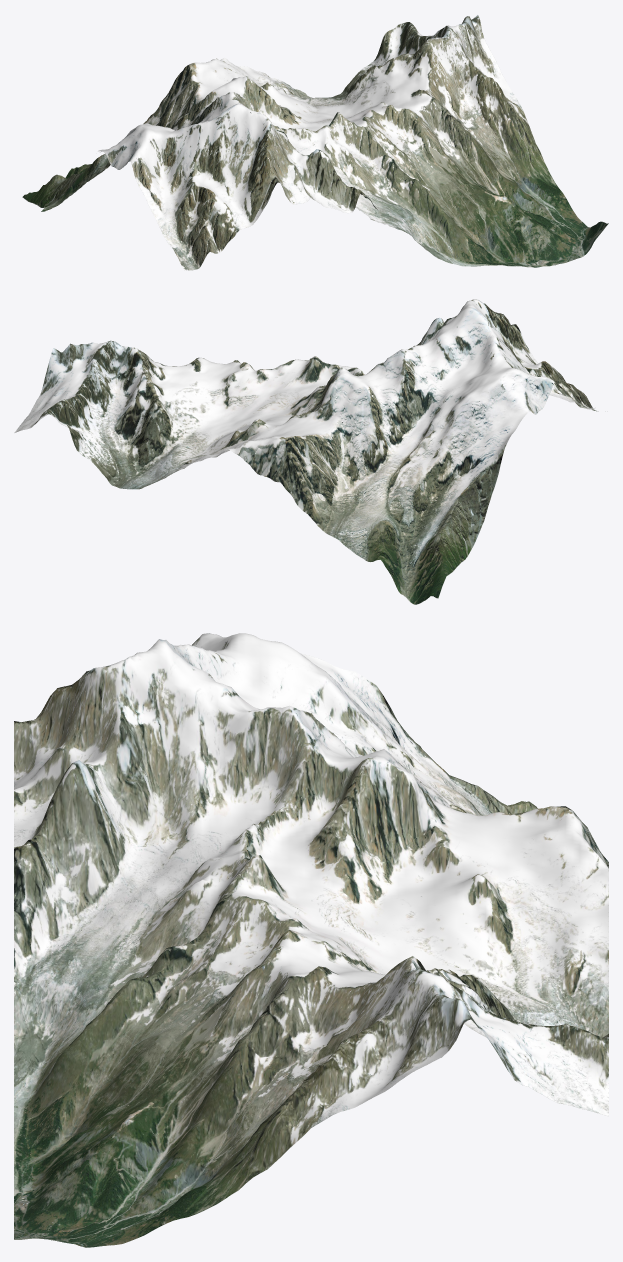
File: map-small.glb
3 views of the same model, one above another, from view 1: azimuth 30°, elevation 25°; view 2: azimuth 150°, elevation 25°; view 3: azimuth 270°, elevation 25° (orthographic). The views are drawn at different scales.
Bounding box in the file's own units: 15664 × 6960 × 10912.
Materials: 1 (1 with a texture image).
